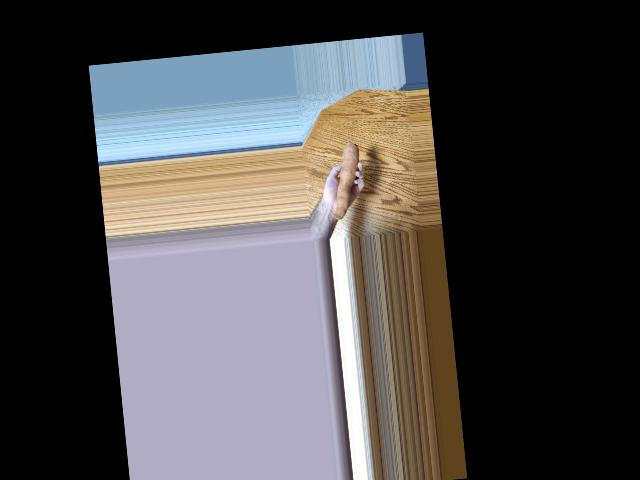sweet_potato: (331, 145, 366, 215)
